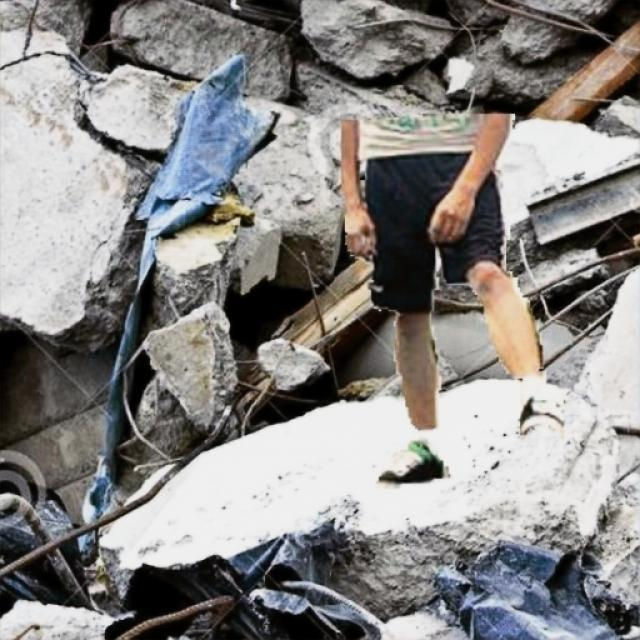Person in Rubble: (342, 114, 562, 488)
